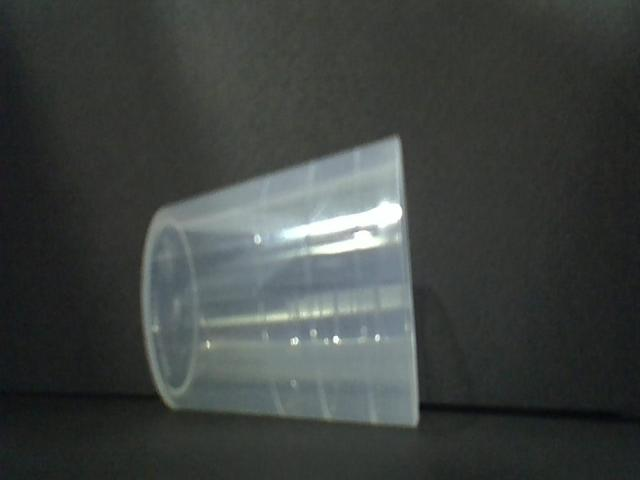cup: (136, 128, 427, 432)
